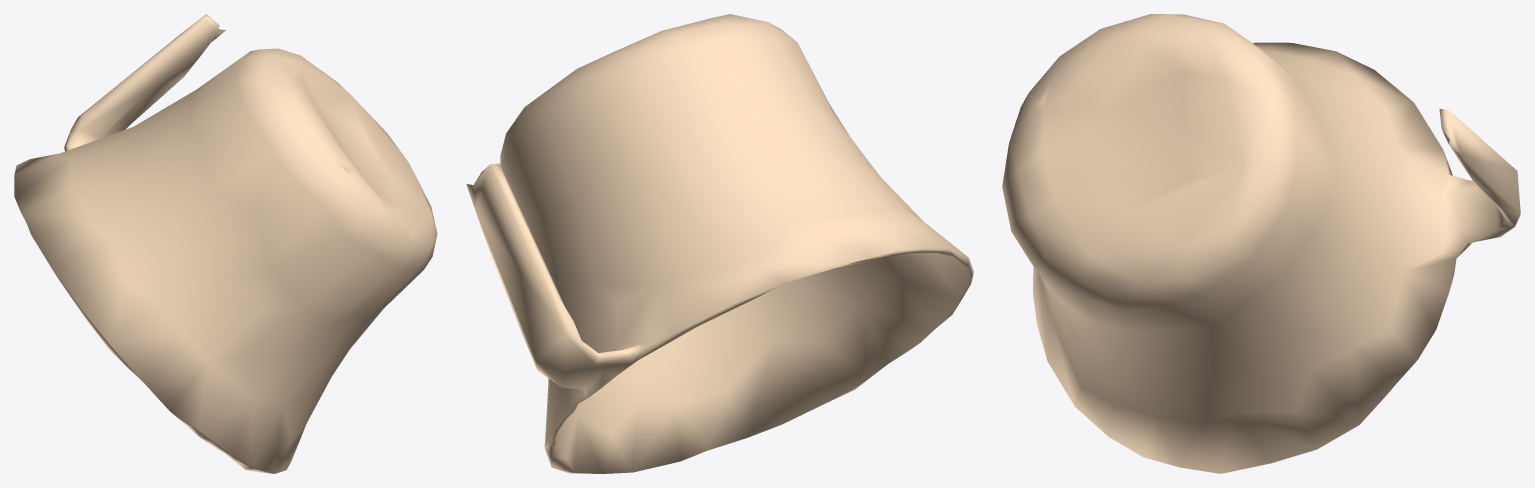
File: mug2_2.dae
3 views of the same model, side by side, from view 1: azimuth 30°, elevation 25°; view 2: azimuth 150°, elevation 25°; view 3: azimuth 270°, elevation 25° (orthographic). The views are drawn at different scales.
Parts seen in each view (by area): view 1: GreenCup_800_tex_019; view 2: GreenCup_800_tex_019; view 3: GreenCup_800_tex_019.
Part boxes in pixels (<box>): GreenCup_800_tex_019: <box>14,14,437,473</box>; GreenCup_800_tex_019: <box>466,14,973,473</box>; GreenCup_800_tex_019: <box>1002,14,1520,473</box>.
Bounding box in the file's own units: 0.2293 × 0.2487 × 0.2284.
